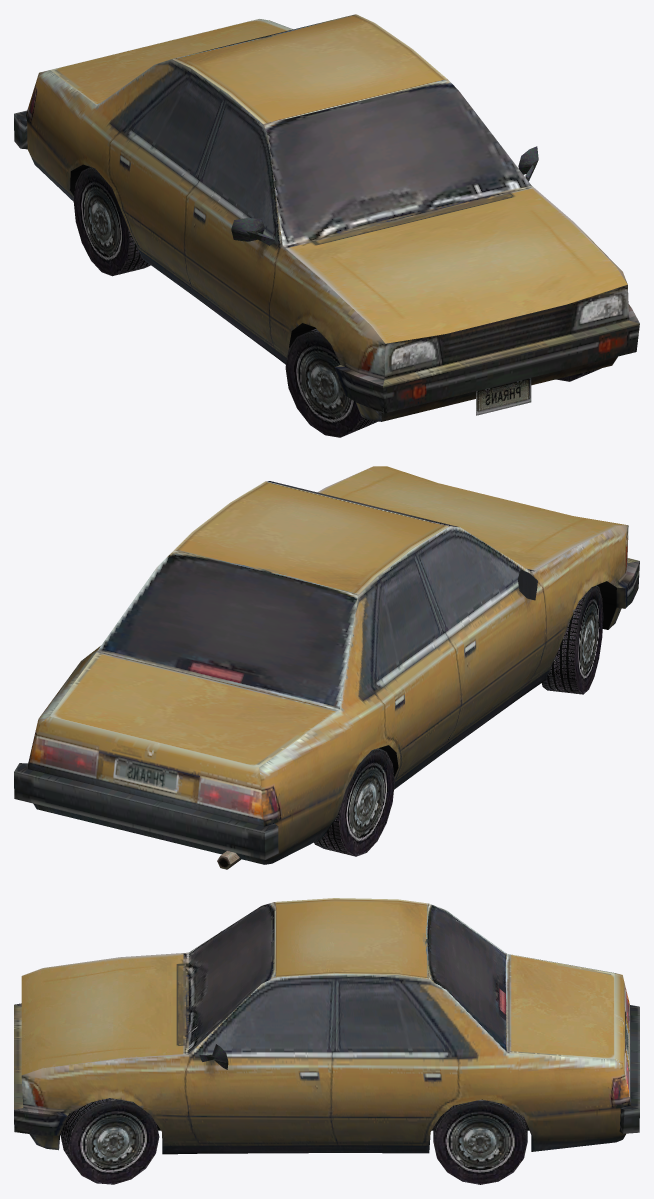
File: car_01_slum.fbx
3 views of the same model, one above another, from view 1: azimuth 30°, elevation 25°; view 2: azimuth 150°, elevation 25°; view 3: azimuth 270°, elevation 25° (orthographic). The views are drawn at different scales.
Visible parts, largest first — view 1: mesh_0; view 2: mesh_0; view 3: mesh_0.
Boxes of the visible parts, <box> form: mesh_0: <box>14,14,639,437</box>; mesh_0: <box>14,466,639,869</box>; mesh_0: <box>14,898,639,1184</box>.
Bounding box in the file's own units: 216 × 156 × 455.
Materials: 1 (1 with a texture image).
